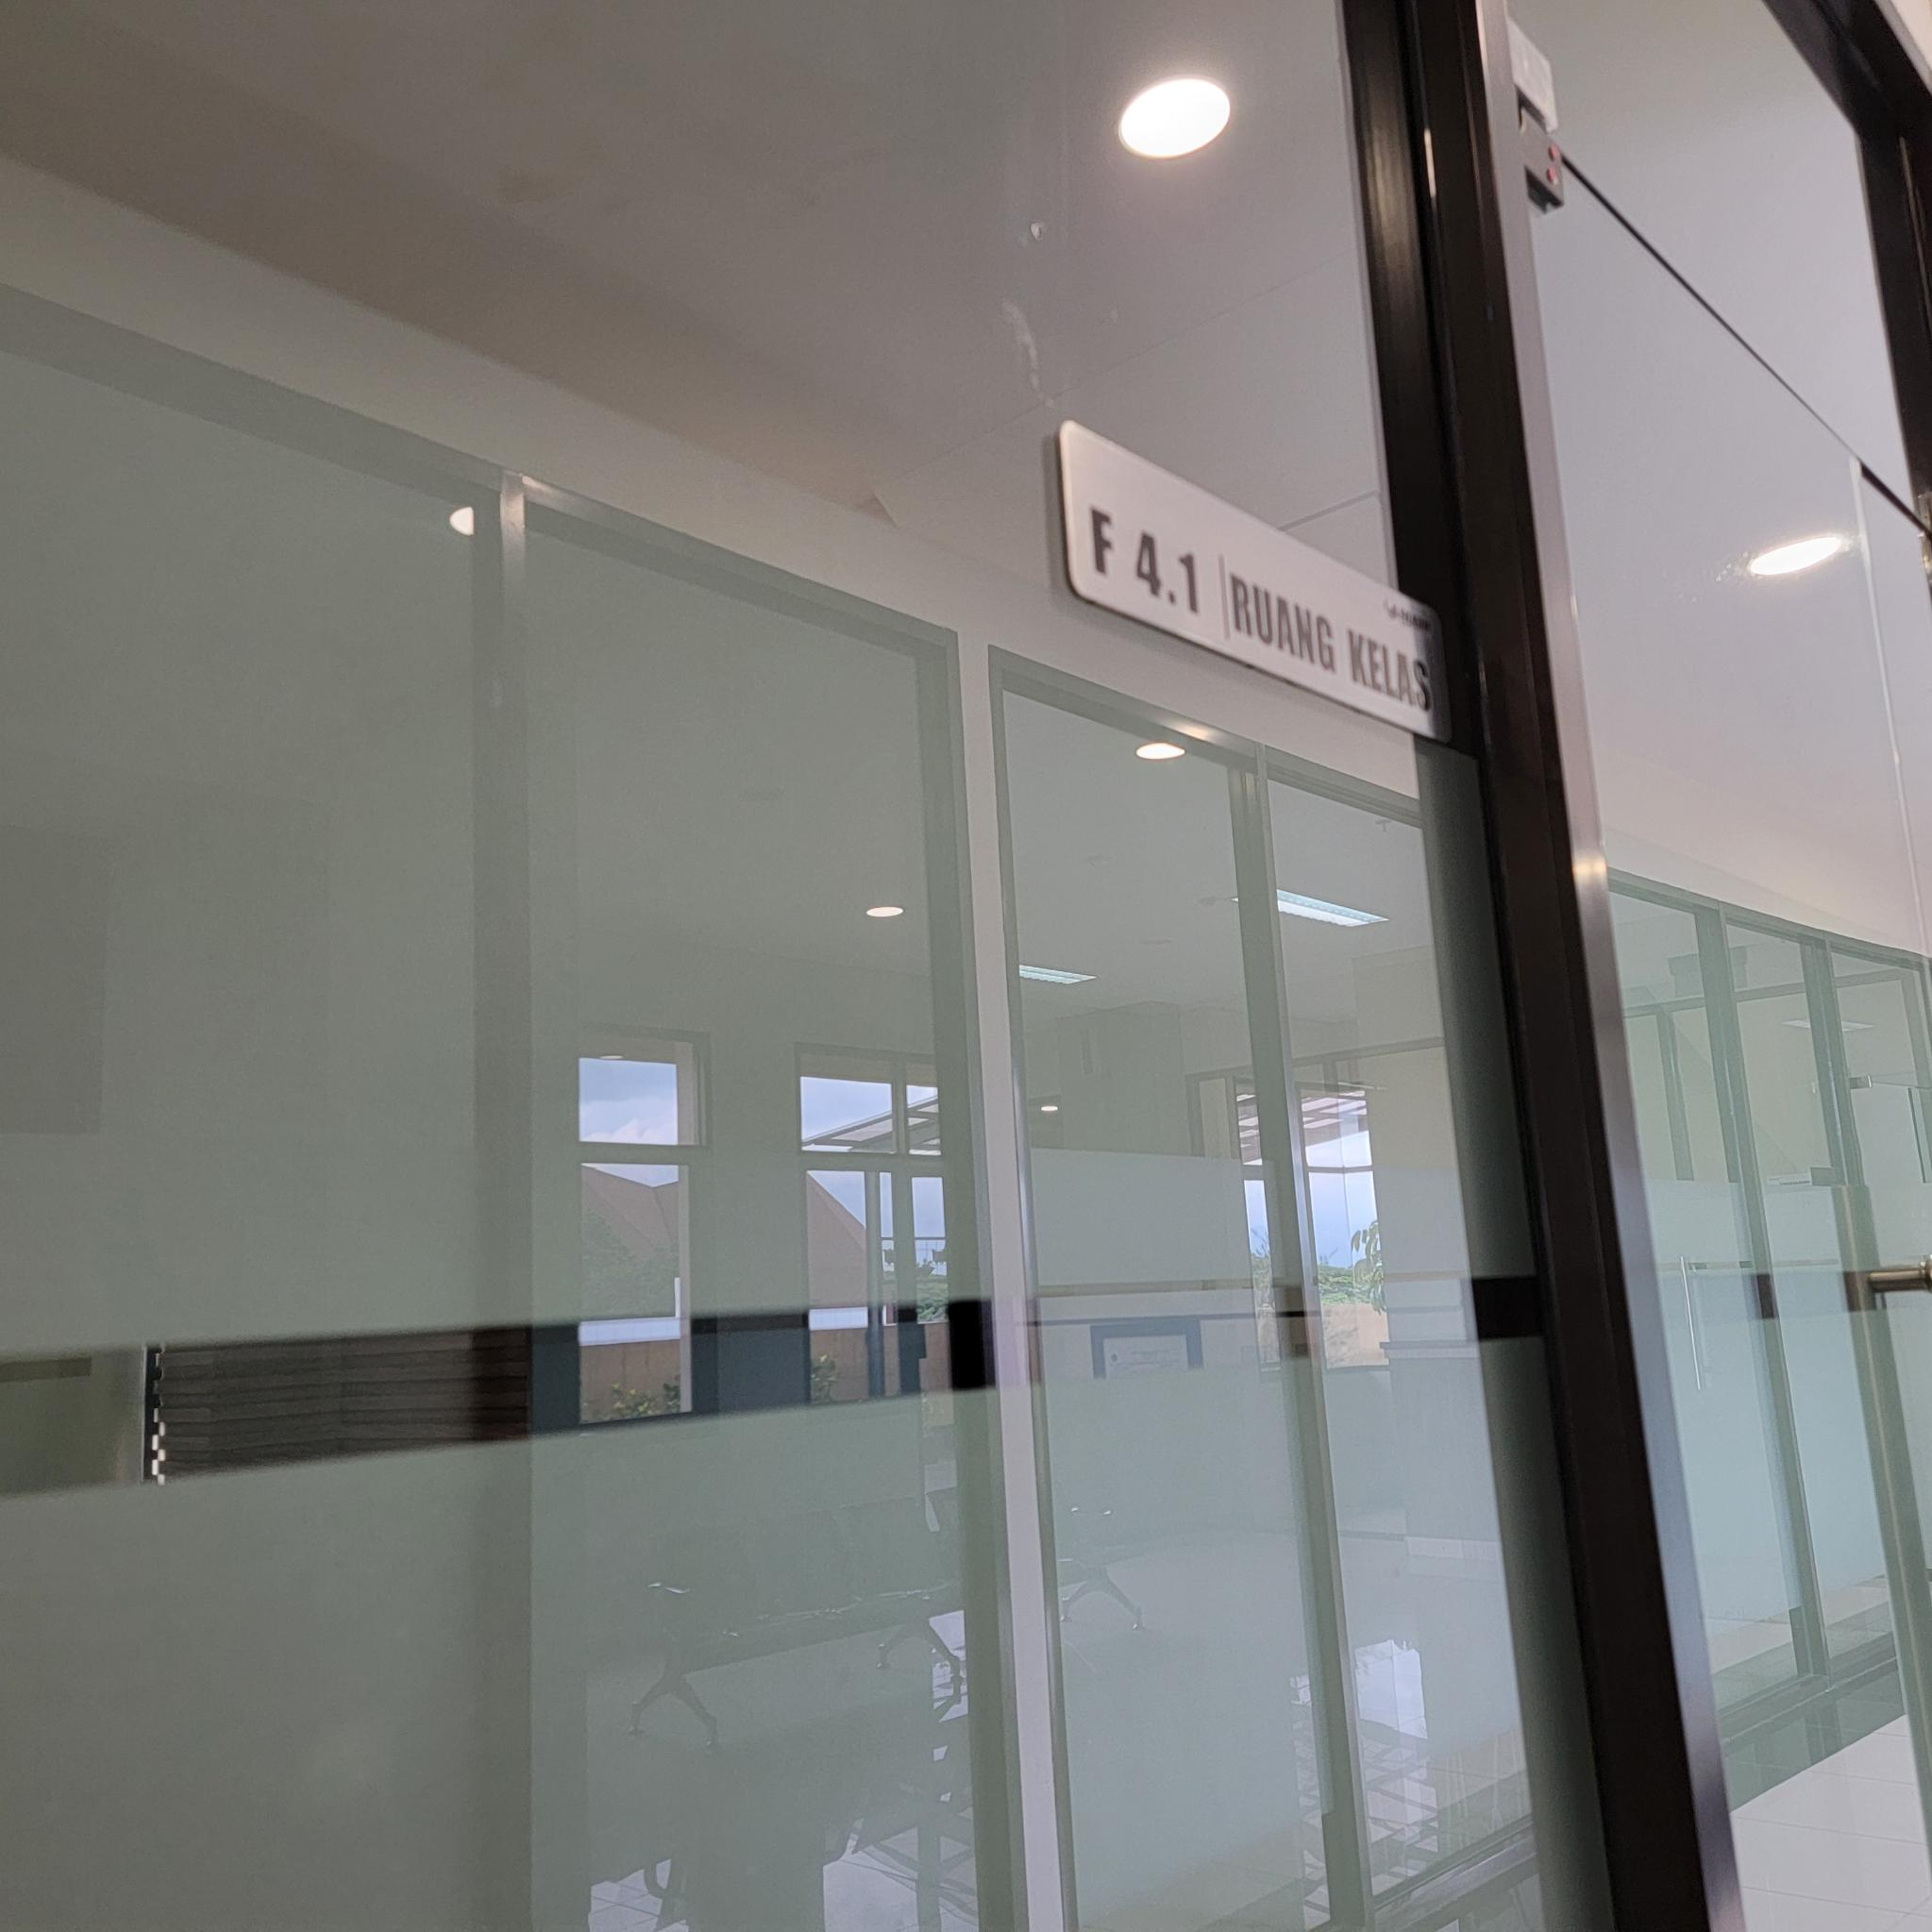plate: (1054, 414, 1453, 747)
